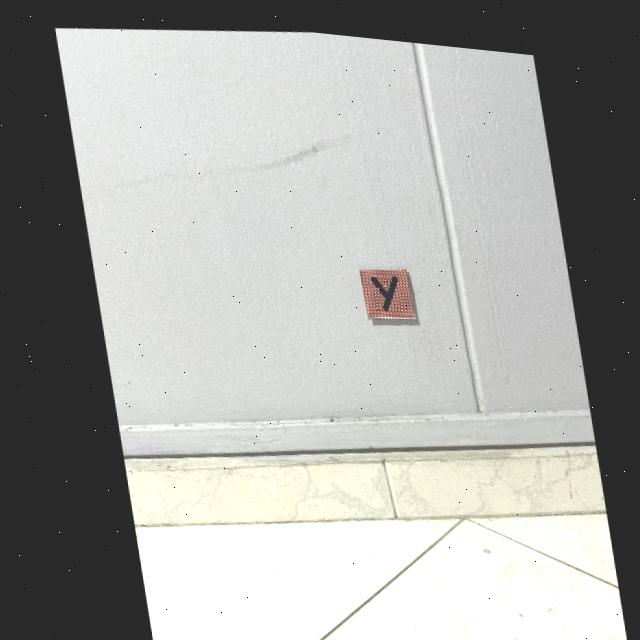Y: (367, 268, 394, 302)
